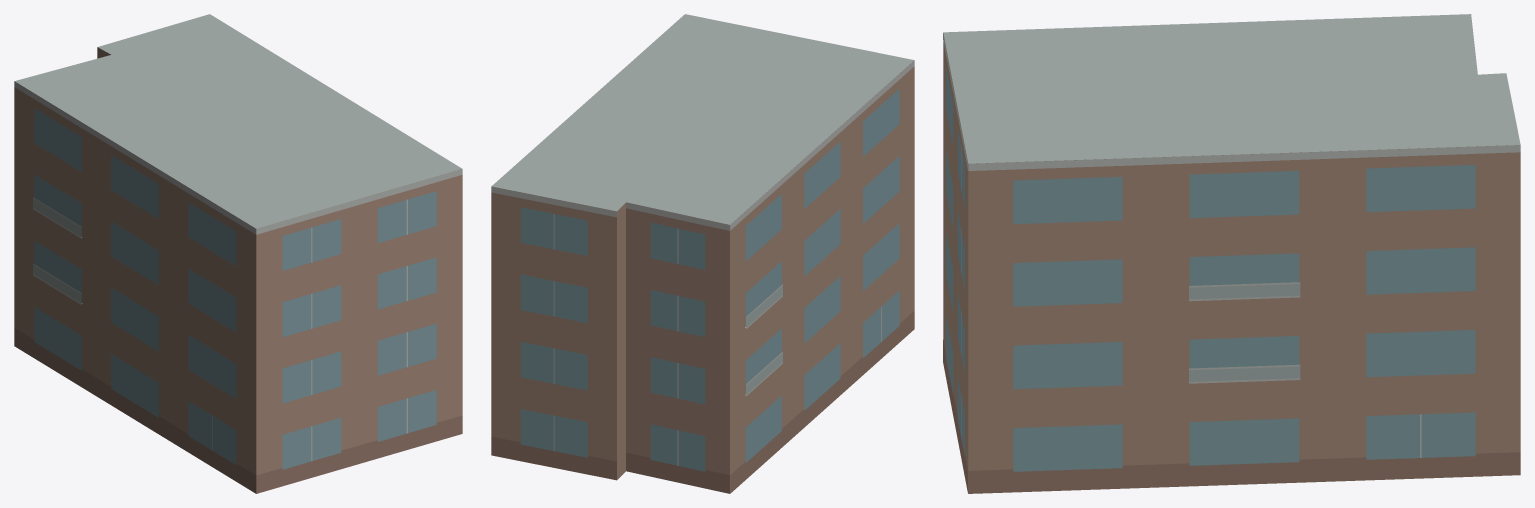
The model's file is survey-upis-32531023.glb.
3 views of the same model, side by side, from view 1: azimuth 30°, elevation 25°; view 2: azimuth 150°, elevation 25°; view 3: azimuth 270°, elevation 25° (orthographic). The views are drawn at different scales.
Parts seen in each view (by area): view 1: survey-upis-32531023.tmp; view 2: survey-upis-32531023.tmp; view 3: survey-upis-32531023.tmp.
Boxes of the visible parts, x1,y1,x2,y2 form: survey-upis-32531023.tmp: (14,14,462,493); survey-upis-32531023.tmp: (491,14,914,493); survey-upis-32531023.tmp: (943,14,1520,493).
Bounding box in the file's own units: 10.61 × 10.9 × 17.29.
